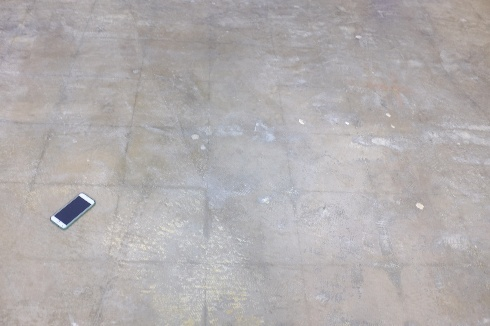phone: (49, 194, 98, 226)
